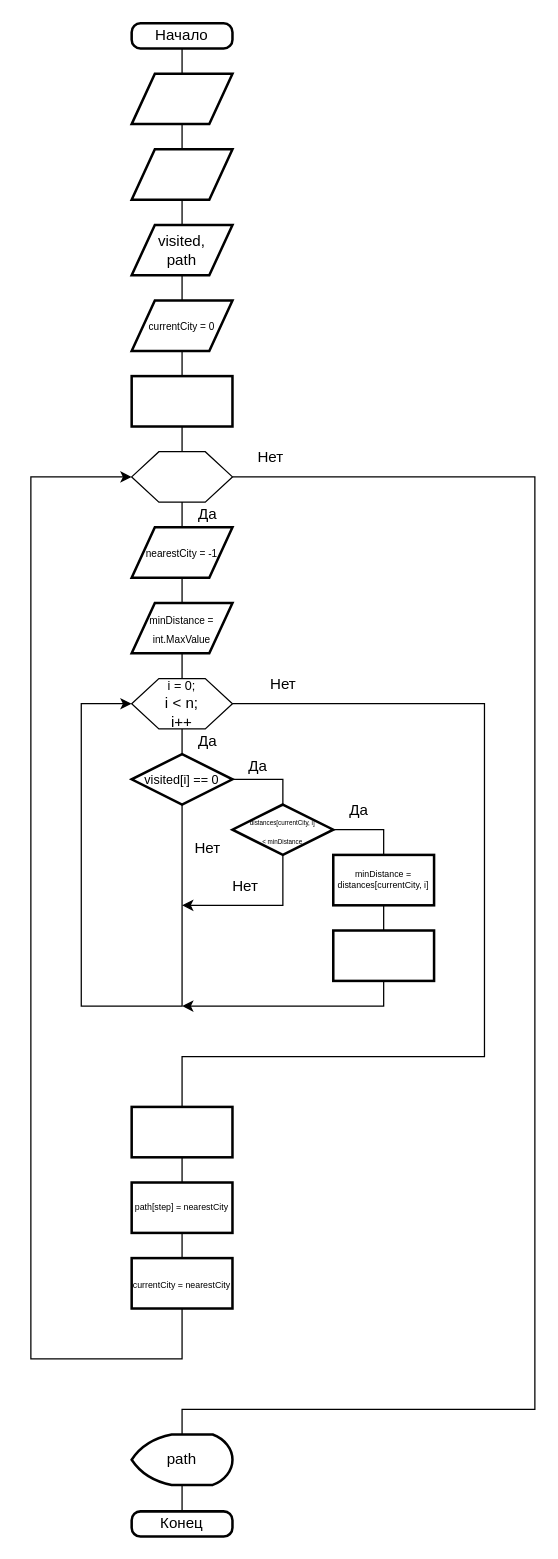
This 558x1559 diagram has some shape labels left out. The shapes that lost their labels are listed below. From the top down, each one's centre as x and y in pixels, then its label:
At (x=181, y=98): "distances".
At (x=181, y=173): "n = distances. GetLength(0)".
At (x=181, y=400): "visited[currentCity] = 1, path[0] = currentCity".
At (x=181, y=476): "step = 1; step < n; step++".
At (x=383, y=955): "nearestCity = i".
At (x=181, y=1131): "visited[nearestCity] = 1;".
